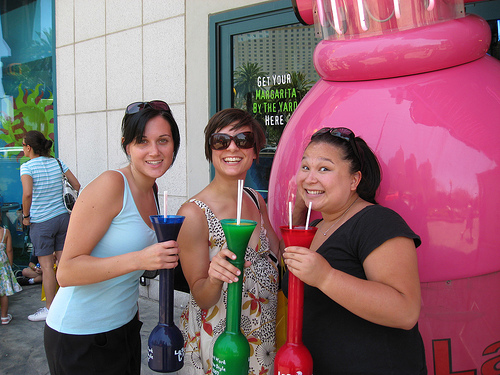without_mask: (299, 140, 362, 216), (125, 119, 178, 178), (208, 121, 255, 179)
